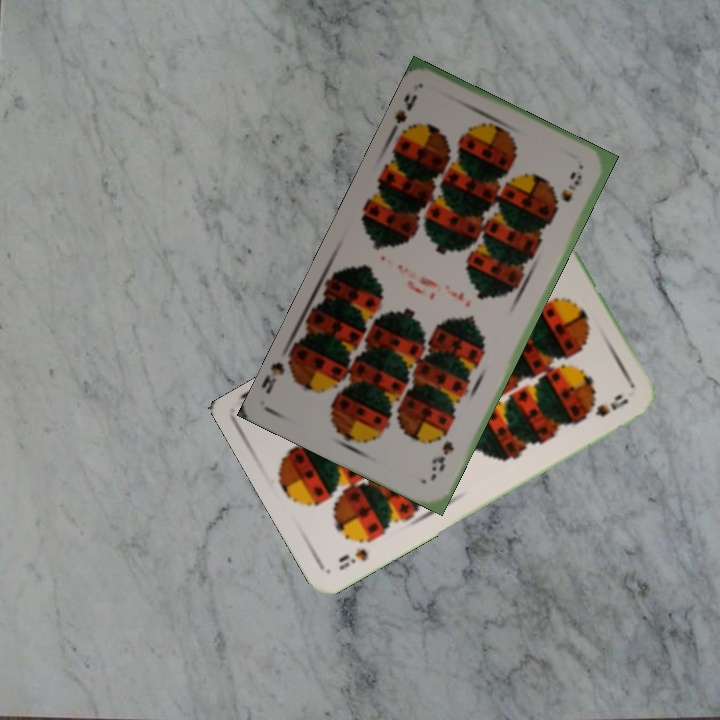S9: (385, 90, 420, 143), (427, 437, 457, 475), (334, 545, 371, 573)
